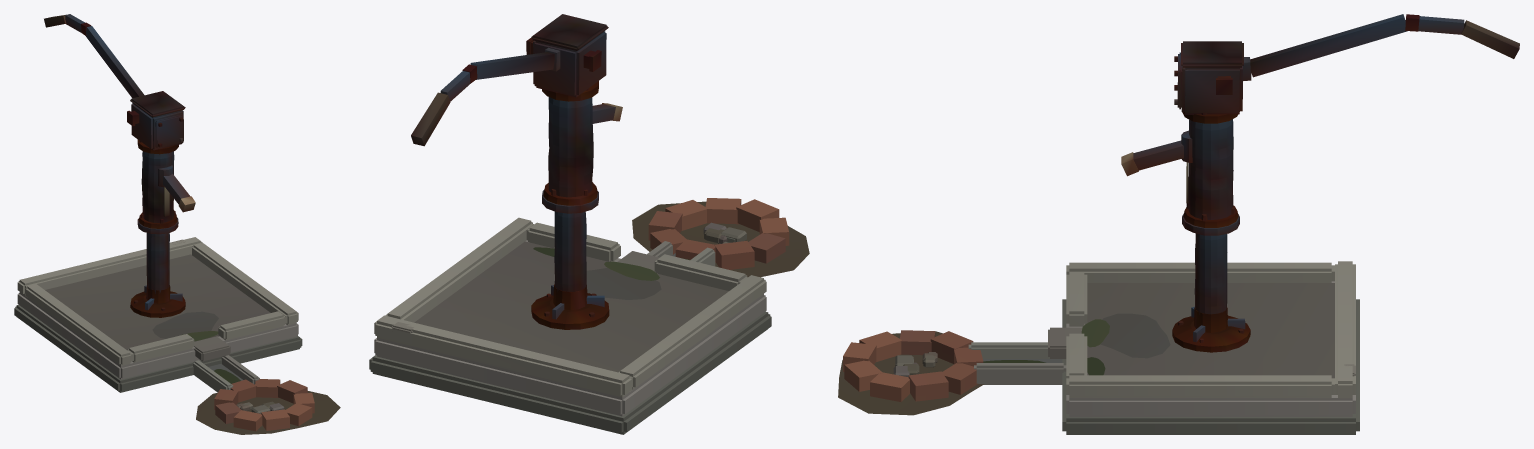
The model's file is pump_mark2_v2.glb.
3 renders of one model, left to right at view 1: azimuth 30°, elevation 25°; view 2: azimuth 150°, elevation 25°; view 3: azimuth 270°, elevation 25°, orthographic. The views are drawn at different scales.
Visible parts, largest first — view 1: hb_main, hb_metal; view 2: hb_main, hb_metal; view 3: hb_main, hb_metal.
Boxes of the visible parts, x1,y1,x2,y2 form: hb_main: (14,237,340,434); hb_metal: (44,14,195,317); hb_main: (369,198,809,434); hb_metal: (411,14,622,329); hb_main: (838,261,1359,434); hb_metal: (1121,14,1519,352).
Size of the model in its own units: 1.13 by 1.51 by 2.59.
